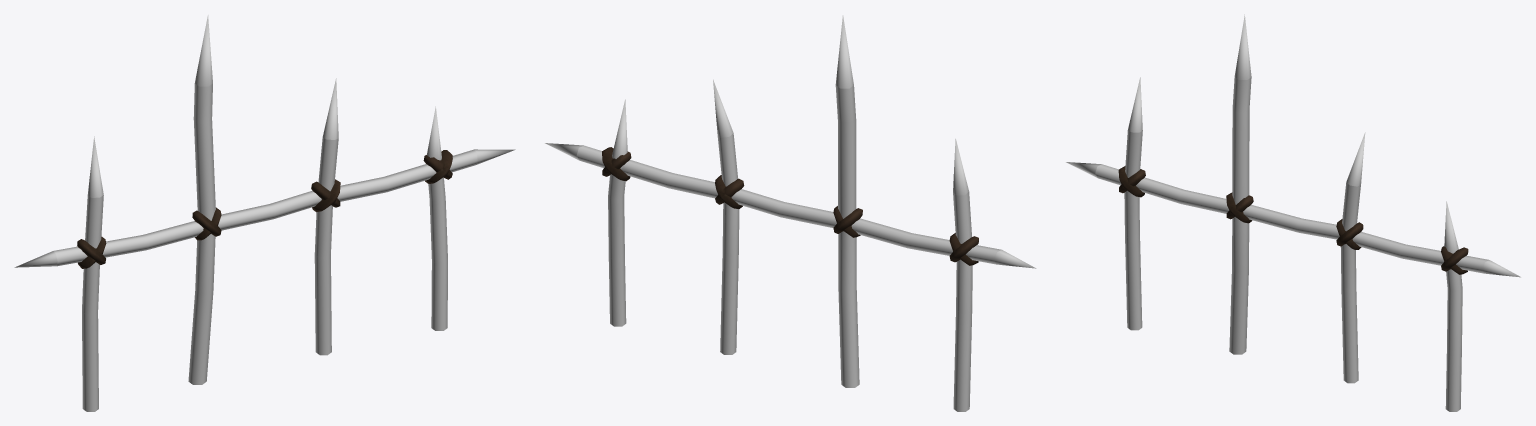
File: lower_city_wood_lattice_02.fbx
3 views of the same model, side by side, from view 1: azimuth 30°, elevation 25°; view 2: azimuth 150°, elevation 25°; view 3: azimuth 330°, elevation 25° (orthographic). The views are drawn at different scales.
Visible parts, largest first — view 1: lower_city_wood_lattice_02; view 2: lower_city_wood_lattice_02; view 3: lower_city_wood_lattice_02.
Boxes of the visible parts, x1,y1,x2,y2 form: lower_city_wood_lattice_02: (14,15,515,411); lower_city_wood_lattice_02: (545,15,1036,411); lower_city_wood_lattice_02: (1066,14,1520,411).
Size of the model in its own units: 2.32 by 1.64 by 0.131.
